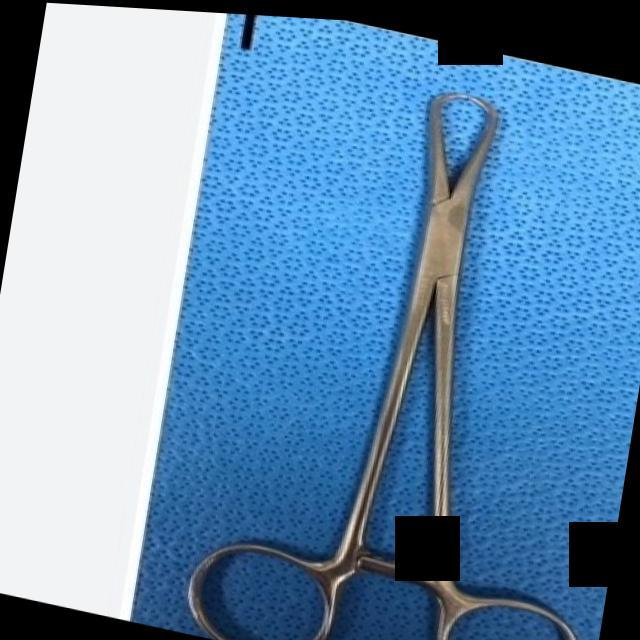Babcock Forceps: (180, 23, 640, 640)
